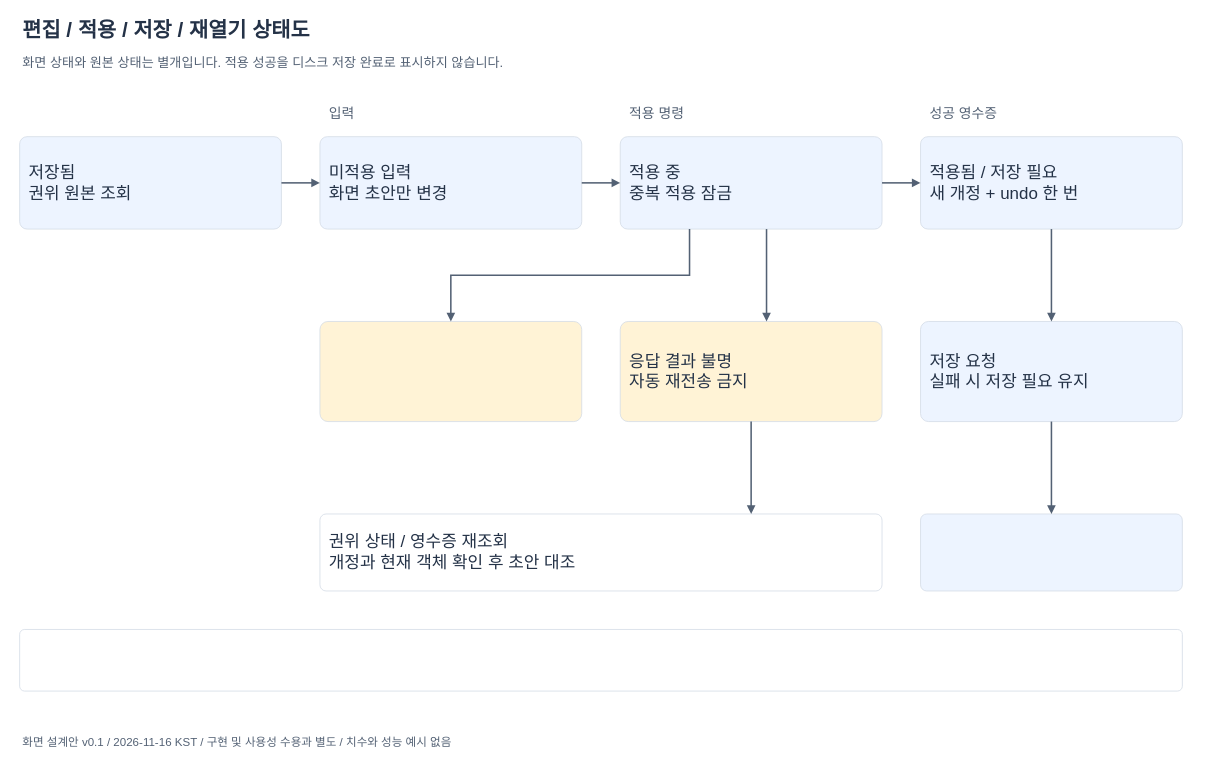
Image size: 1209x767. Some labels were removed from this diagram. Each missing label, with the centre of its shape:
"검증 오류 초안과 오류 위치 유지" belongs at pixel 450 371.
"저장 완료 / 재열기 이름 / 출처 / 미정 확인" belongs at pixel 1051 552.
"화면 이동 / 창 닫기: 영향받는 초안에 한해 적용 / 버리기 / 머무르기. 장시간 작업의 실제 취소는 별도 명령." belongs at pixel 600 660.
